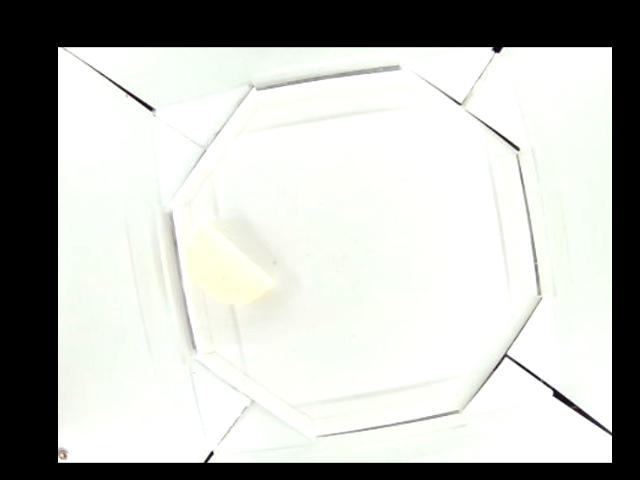Mooli: (188, 216, 274, 302)
